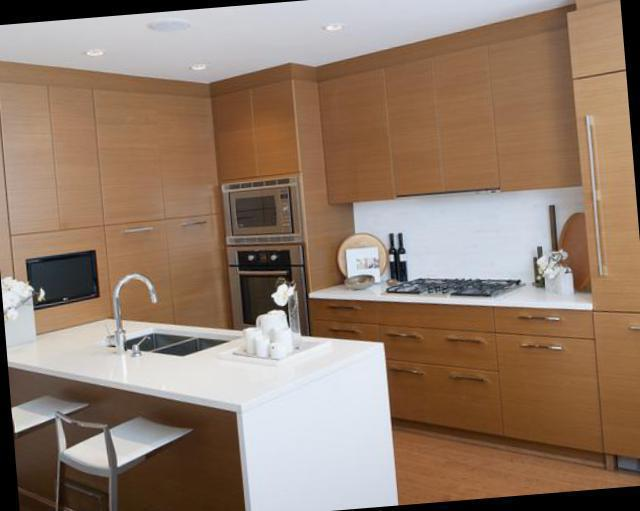Lavaplatos: (98, 255, 260, 373)
